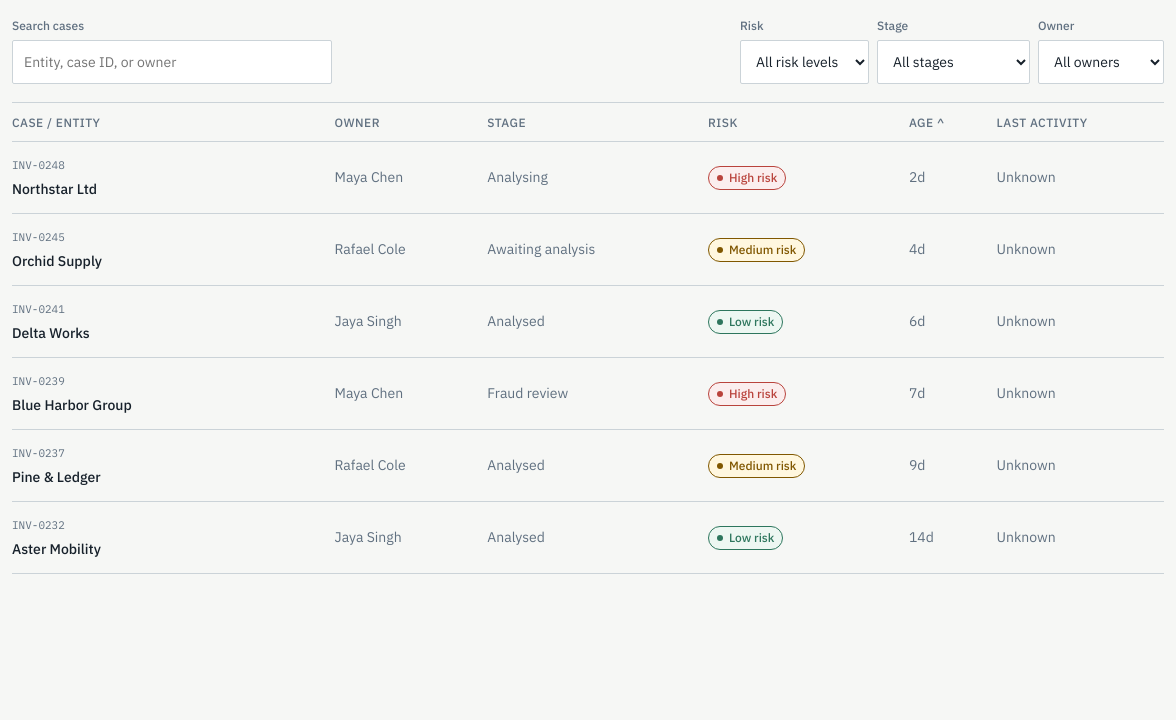
Test: CaseQueue › filters cases by owner and keeps table headers accessible
expect the column heading "Case / entity" is shown: met, box [12,103,334,142]
Step 1. Select "Maya Chen" in the dropdown labelled "Owner" → coordinates (1101, 62), box [1038,40,1164,84]
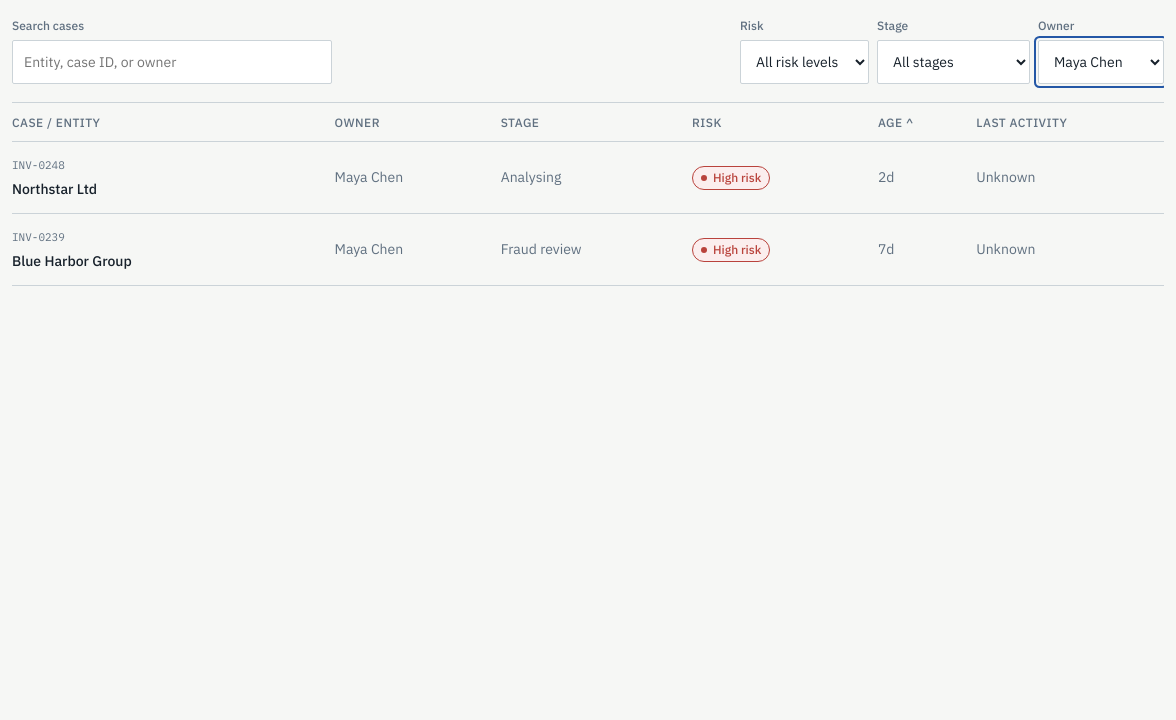
expect the number of rows is 3: met, box [12,103,1164,142]; [12,142,1164,214]; [12,214,1164,286]
